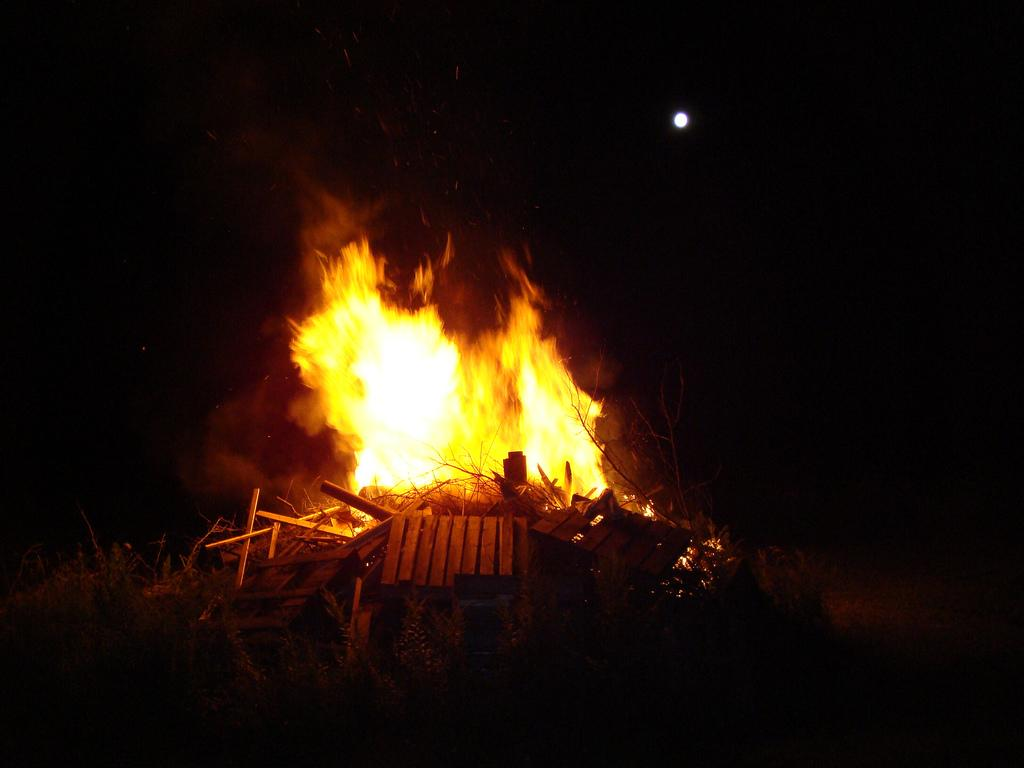fire: (366, 322, 448, 490), (518, 376, 594, 488)
